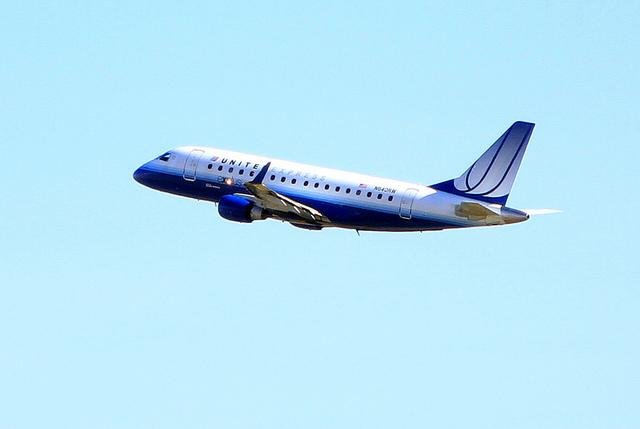airplane: (131, 118, 565, 238)
